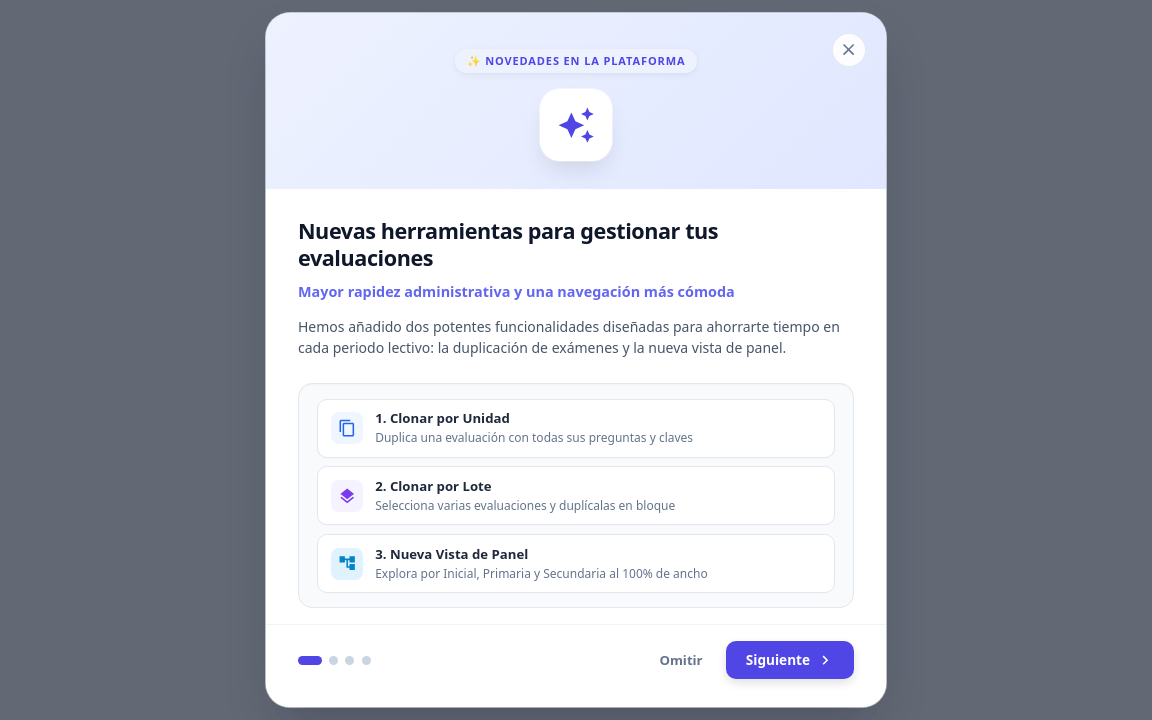
Scenario: EvaluacionesOnboardingModal › retrocede con el botón Anterior
The width and height of the screenshot is (1152, 720).
What coordinates should you click on to do the following:
click the button "Siguiente"
I would click on:
 (790, 660)
Its box is [726,642,854,680].
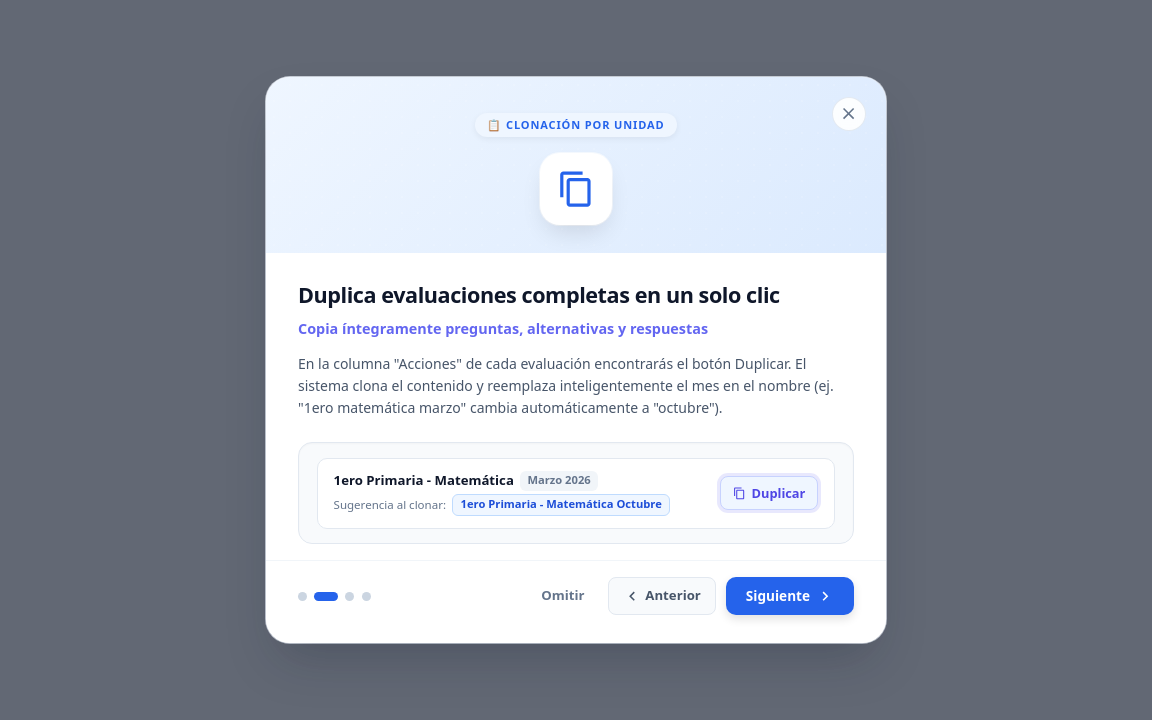
Expected: the heading "Duplica evaluaciones completas en un solo clic" is shown, [298,281,854,308]
What coordinates should you click on to do the following:
click the button "Anterior"
I would click on:
 (662, 596)
Its box is [608,577,716,615].
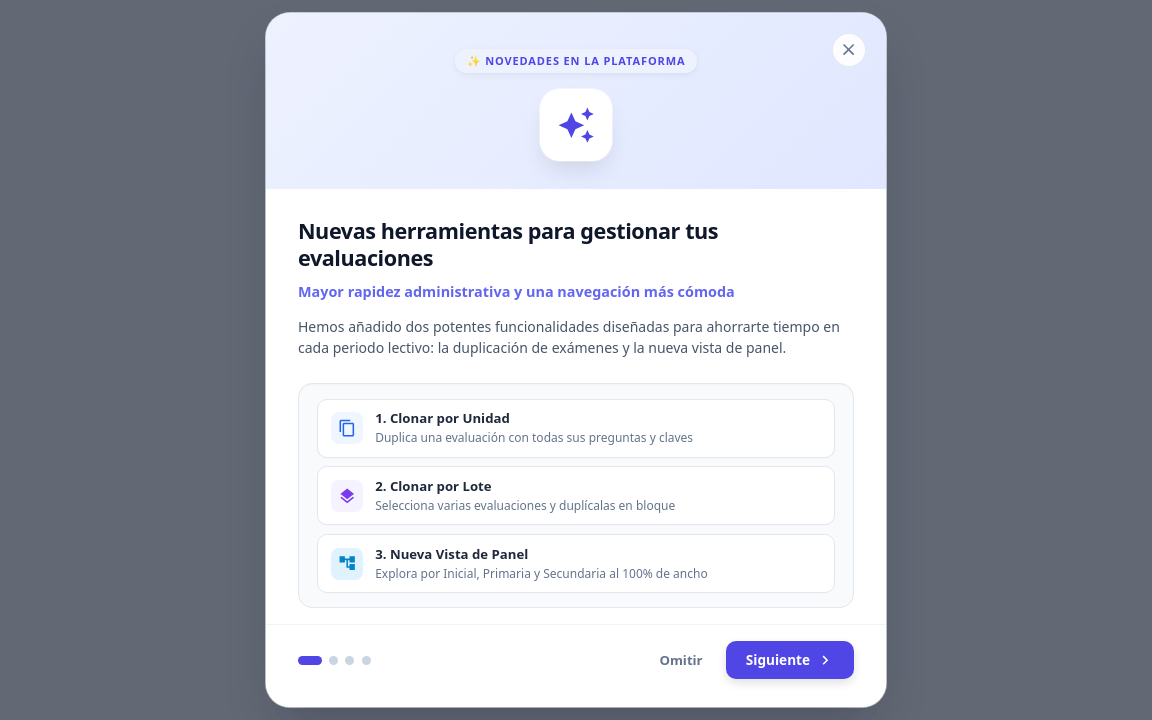
Expected: the heading "Nuevas herramientas para gestionar tus evaluaciones" is shown, [298,216,718,272]
